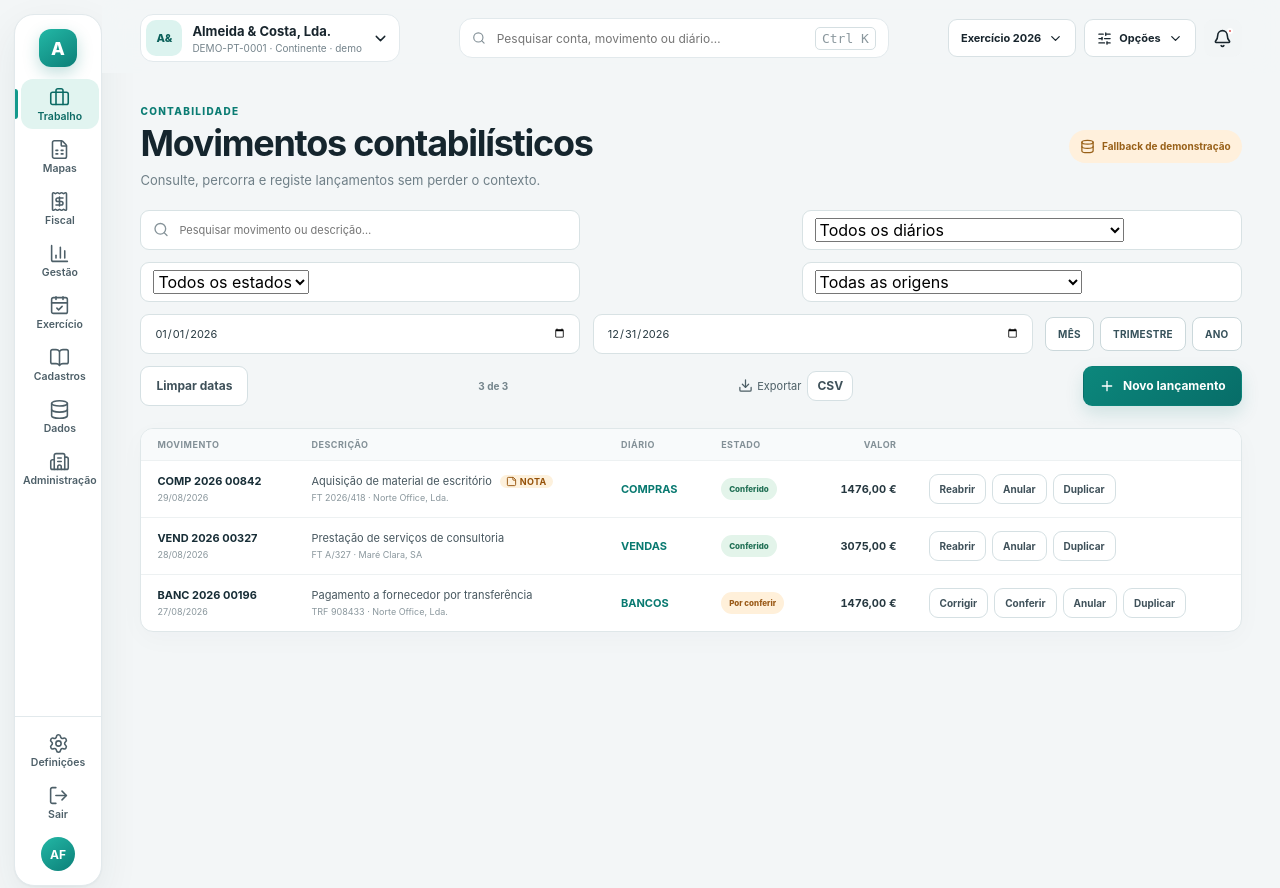
Test case: App › advances fields with Enter and adds a line from the last field
Step 1. Click the button "Novo lançamento" → (1162, 386), box [1083,366,1242,406]
(page scrolled)
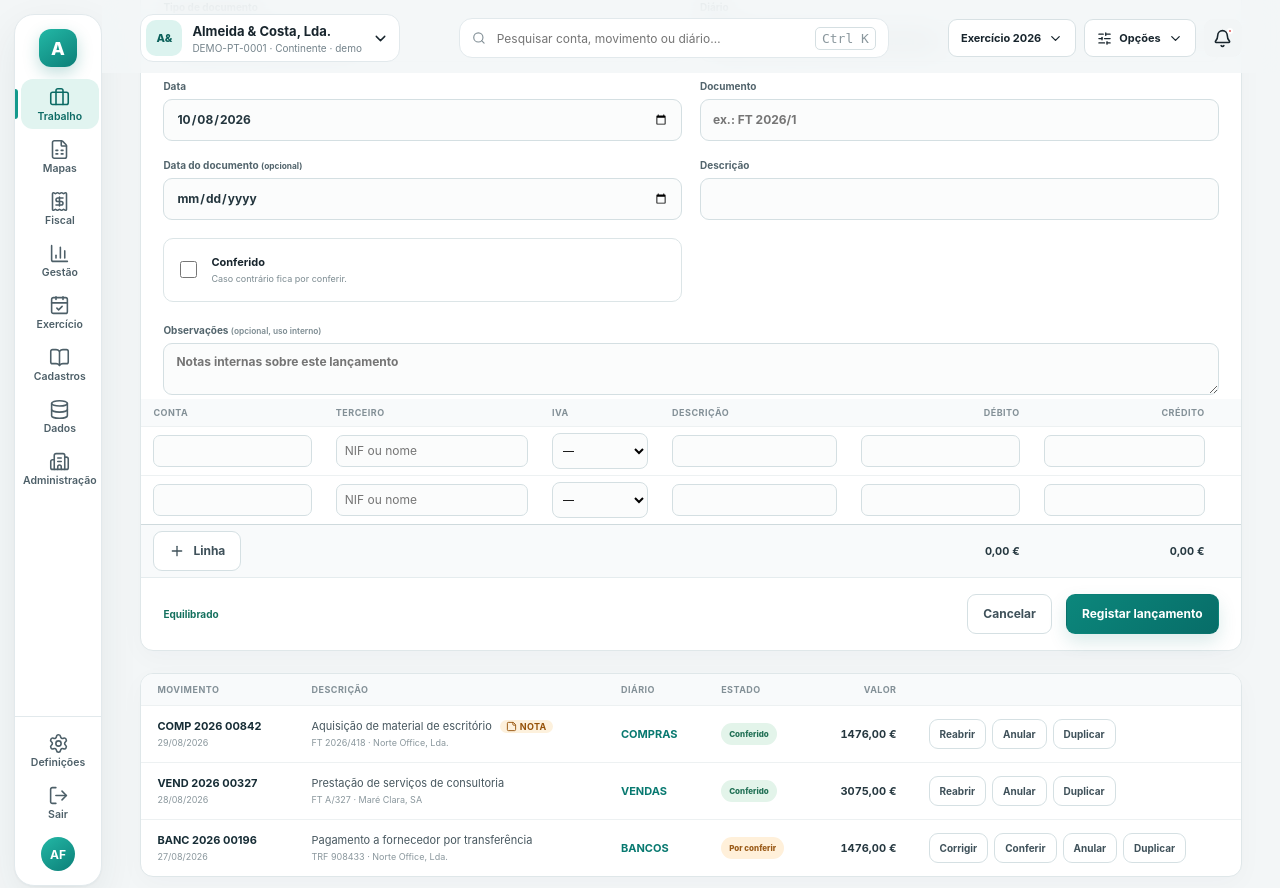
Step 2. Press Enter in the dropdown named "Conta da linha 1", box [153,435,312,467]
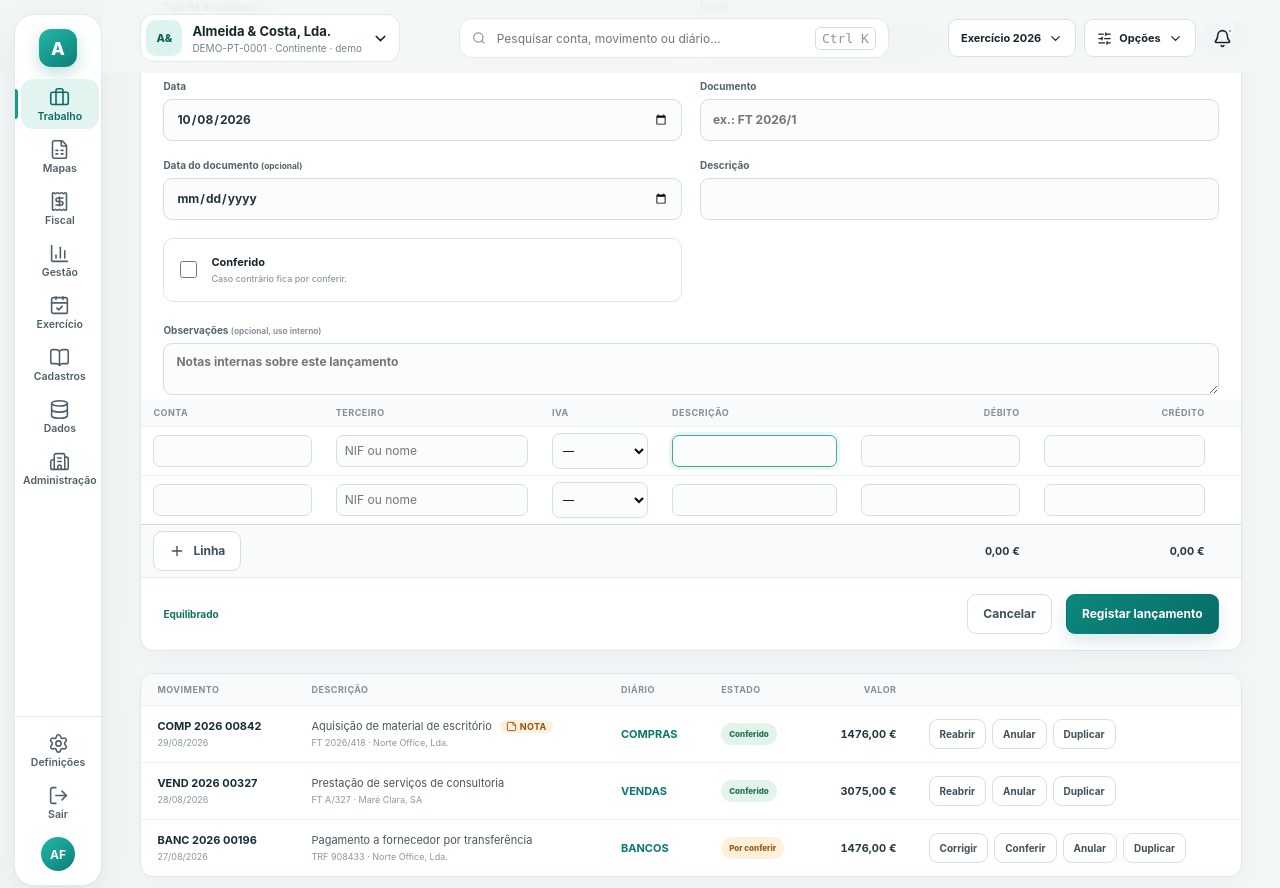
Step 3. Press Enter in the number field named "Crédito da linha 2", box [1044,484,1205,516]
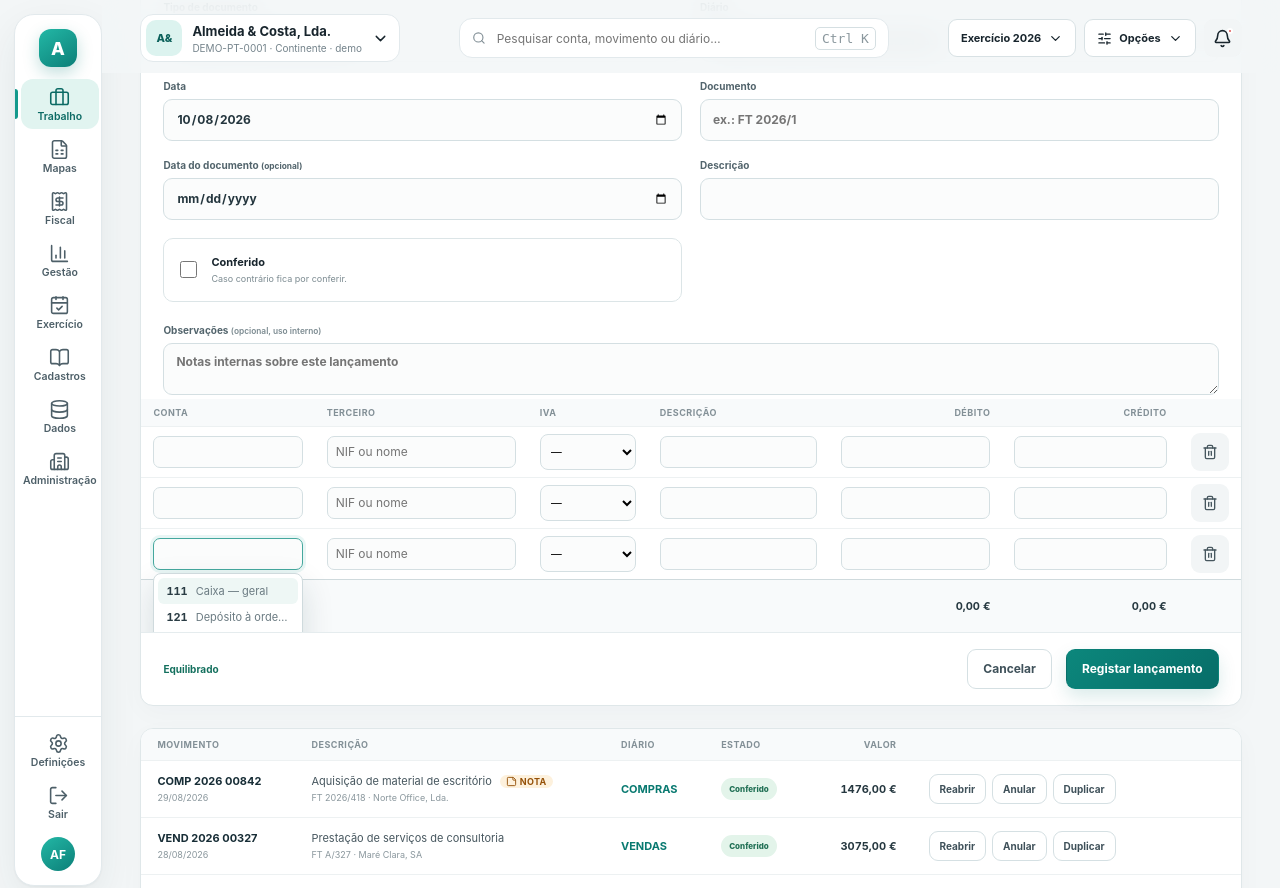
Now the dropdown named "Conta da linha 3" is shown, box [153,538,303,570]
